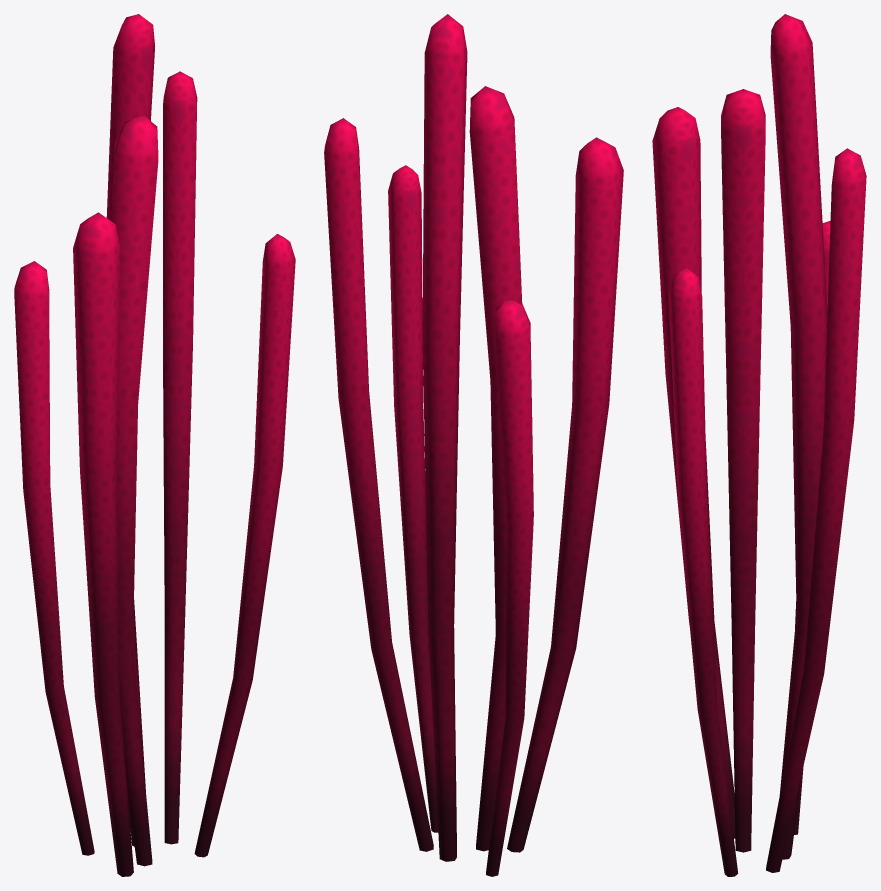
The model's file is Coral_07b.FBX.
3 renders of one model, left to right at view 1: azimuth 30°, elevation 25°; view 2: azimuth 150°, elevation 25°; view 3: azimuth 270°, elevation 25°, orthographic.
Parts seen in each view (by area): view 1: Coral_07b; view 2: Coral_07b; view 3: Coral_07b.
Boxes of the visible parts, box(x1,y1,x2,y2) form: Coral_07b: box(14, 14, 295, 876); Coral_07b: box(324, 14, 623, 876); Coral_07b: box(652, 14, 866, 876).
Size of the model in its own units: 59.68 by 217 by 49.99.
